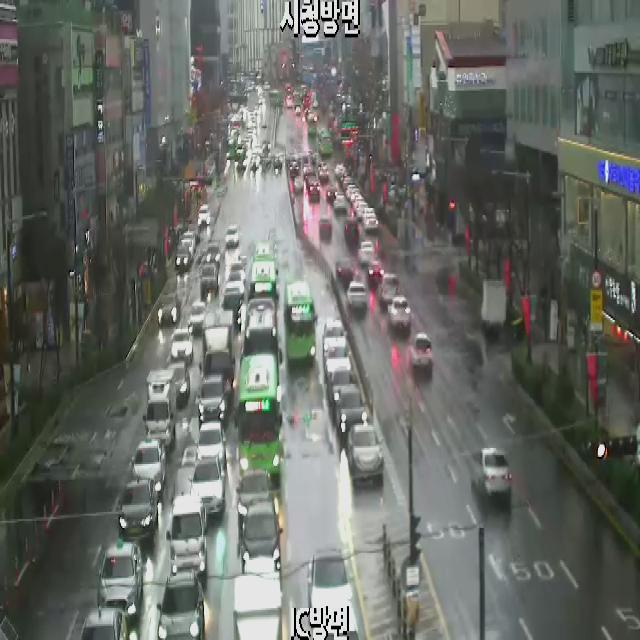Bus: (234, 354, 282, 486), (240, 298, 282, 385), (284, 282, 317, 366), (248, 263, 278, 303), (253, 242, 276, 262), (319, 128, 332, 155)
Car: (98, 540, 143, 618), (156, 570, 205, 640), (237, 502, 283, 574), (306, 550, 354, 610), (237, 469, 280, 534), (119, 479, 158, 543), (471, 448, 512, 502), (188, 458, 225, 516), (348, 424, 384, 482), (129, 440, 166, 494), (336, 388, 369, 441), (197, 376, 228, 428), (79, 608, 129, 640), (195, 422, 227, 470), (328, 366, 357, 406), (321, 611, 360, 640), (167, 362, 190, 408), (324, 348, 352, 382), (170, 327, 193, 363), (410, 333, 432, 370), (158, 293, 182, 326), (388, 296, 411, 330), (221, 297, 243, 330), (322, 320, 347, 348), (379, 274, 399, 306), (347, 281, 368, 311), (200, 265, 218, 300), (188, 302, 207, 333), (226, 274, 244, 299), (358, 242, 375, 266), (367, 262, 384, 286), (344, 218, 360, 241), (176, 246, 191, 270), (230, 262, 246, 284), (206, 244, 220, 268), (181, 232, 196, 252), (226, 225, 238, 247), (198, 205, 210, 226), (320, 218, 332, 238), (334, 195, 347, 213), (365, 215, 378, 232), (309, 181, 320, 201), (188, 225, 200, 242), (363, 208, 375, 224), (306, 171, 317, 186), (294, 176, 304, 192), (350, 188, 360, 204), (357, 203, 368, 217), (326, 186, 337, 200), (290, 160, 299, 176), (342, 177, 352, 191), (334, 163, 344, 176), (354, 198, 364, 211), (340, 171, 350, 183), (347, 185, 355, 198), (319, 168, 328, 179), (317, 163, 327, 171)
Truck: (166, 493, 207, 581), (233, 572, 283, 640), (199, 311, 235, 401), (142, 371, 176, 448), (481, 280, 506, 332)
